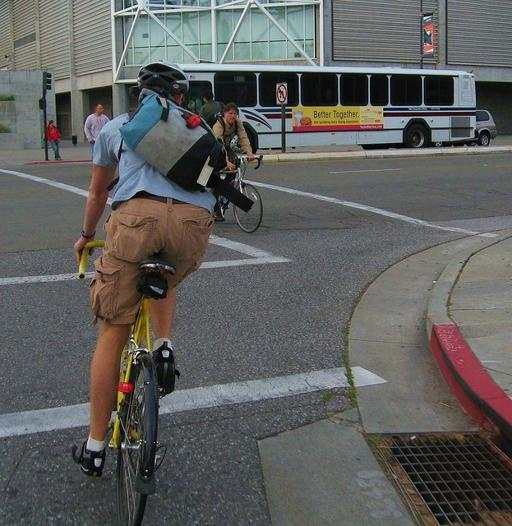non-vehicle: (71, 238, 177, 526), (210, 152, 263, 233)
